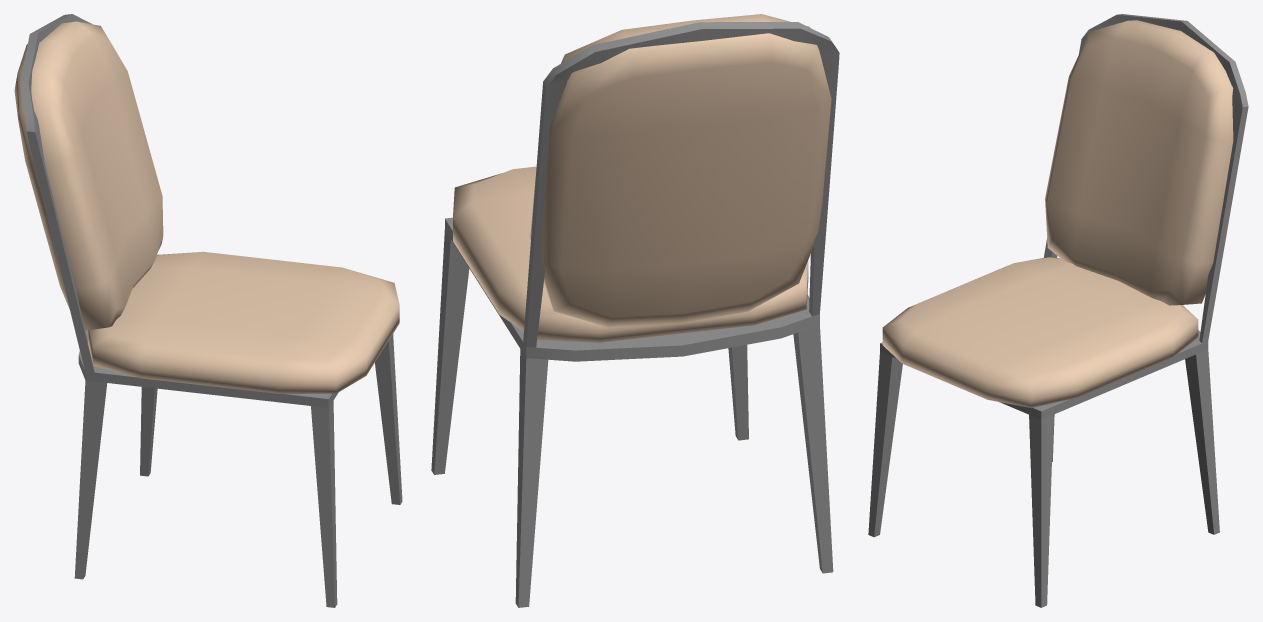
File: DiningChair.fbx
The picture shows the model from 3 angles, left to right: view 1: azimuth 30°, elevation 25°; view 2: azimuth 150°, elevation 25°; view 3: azimuth 270°, elevation 25°; orthographic projection. The views are drawn at different scales.
Visible parts, largest first — view 1: polySurface56; view 2: polySurface56; view 3: polySurface56.
Part boxes in pixels (x1,y1,x2,y2): polySurface56: (14,14,402,607); polySurface56: (431,14,839,607); polySurface56: (868,14,1248,607).
Bounding box in the file's own units: 1.13 × 1.48 × 1.13.
